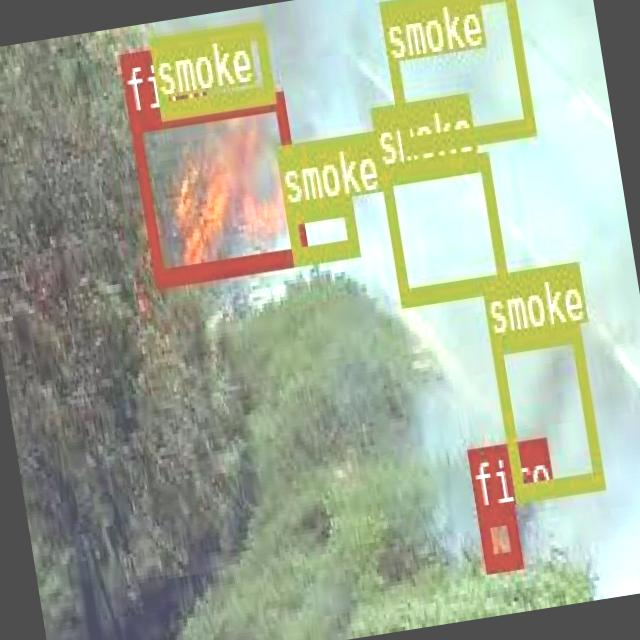fire: (126, 92, 308, 286), (476, 504, 520, 568)
smoke: (378, 0, 533, 150), (489, 322, 602, 498), (378, 150, 507, 304), (148, 20, 274, 116), (284, 196, 357, 262)
